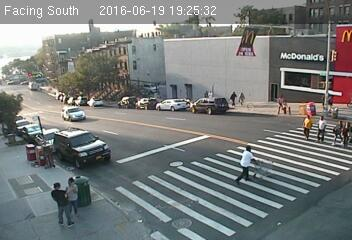neg: (6, 169, 31, 202), (210, 200, 231, 229), (166, 33, 186, 59), (155, 194, 172, 217), (130, 44, 146, 66), (299, 156, 315, 178), (287, 202, 303, 223), (97, 69, 112, 88), (266, 122, 281, 141), (232, 42, 246, 61), (103, 175, 117, 194), (70, 68, 84, 85), (186, 153, 199, 171), (106, 117, 119, 134), (156, 137, 168, 154), (165, 112, 177, 128), (314, 55, 325, 70), (256, 95, 267, 110), (7, 142, 17, 155), (117, 192, 127, 205), (195, 128, 204, 140), (26, 98, 35, 110), (69, 131, 78, 142), (26, 144, 35, 155), (278, 46, 285, 55), (268, 69, 275, 78)
pos: (225, 136, 265, 189), (40, 181, 75, 227), (54, 174, 85, 216), (328, 116, 349, 144), (298, 112, 316, 137), (311, 115, 329, 139), (336, 120, 351, 145), (225, 88, 239, 107), (235, 87, 248, 105), (273, 91, 286, 108)
